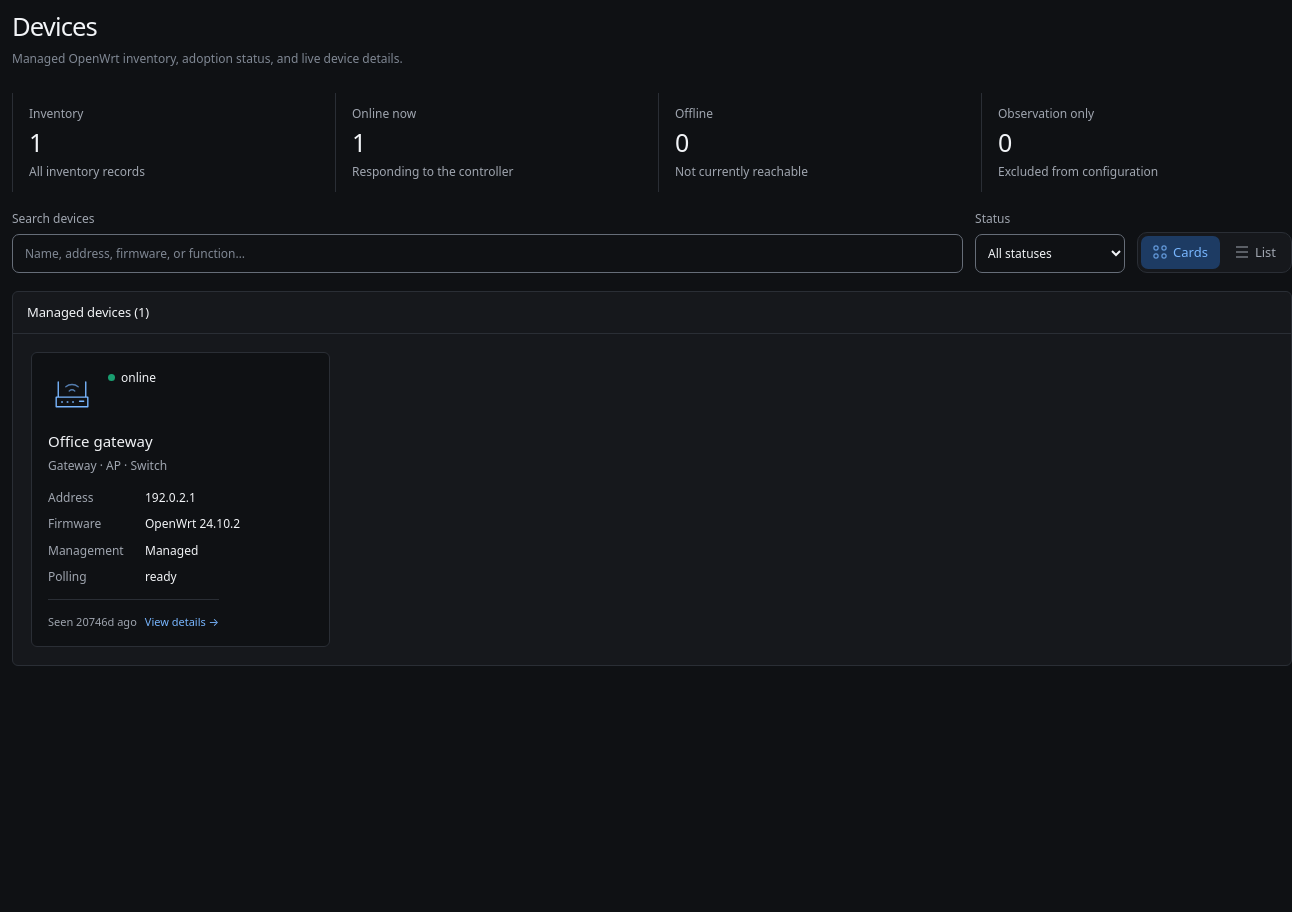
Test: Device inventory presentation › defaults safely when the saved preference is invalid or storage is unavailable
This screenshot has width=1292, height=912.
Click the button "List".
click(1255, 252)  # box [1223,236,1288,269]
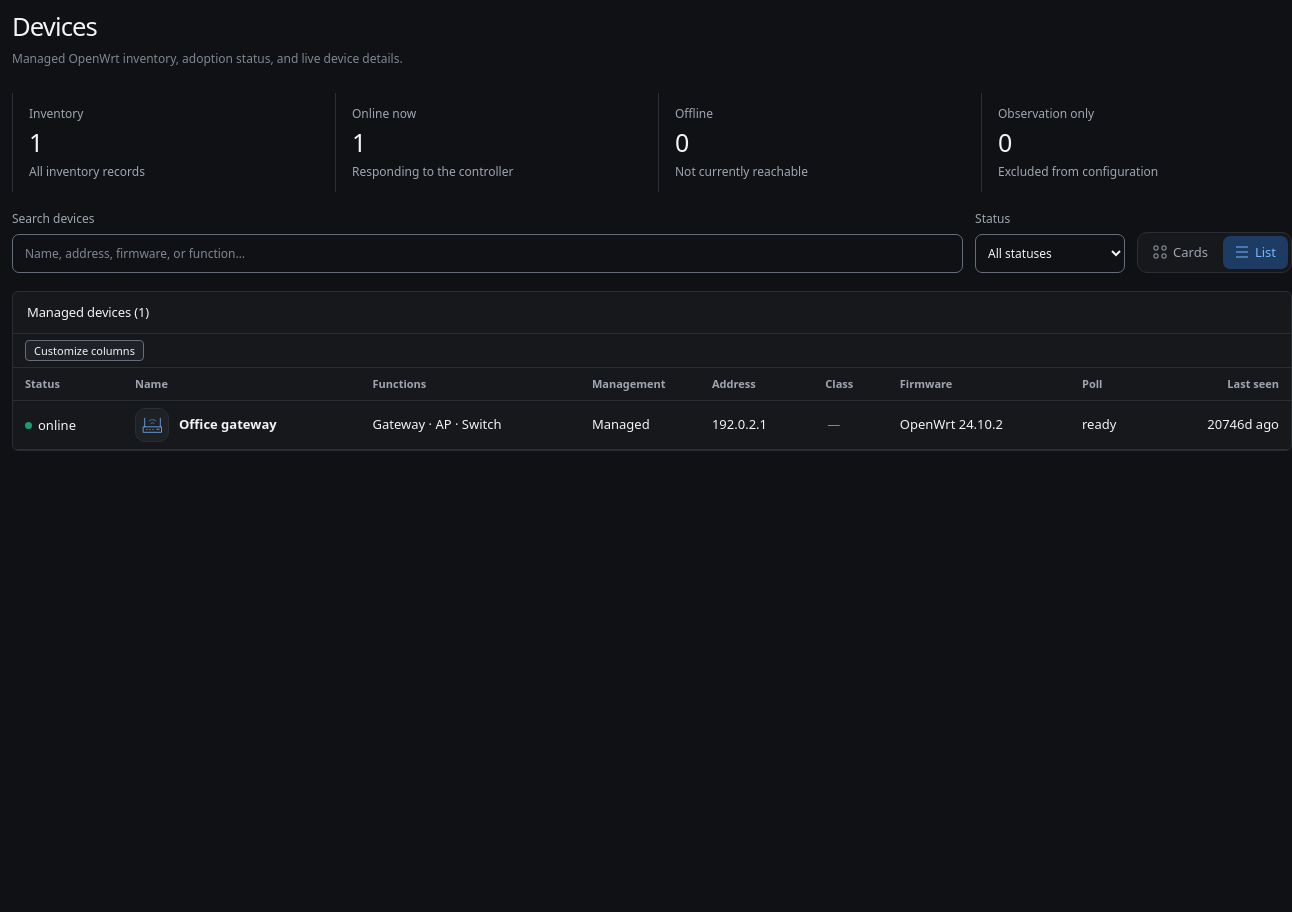
Expected: the table named "Managed devices" is shown, [13,368,1291,450]
